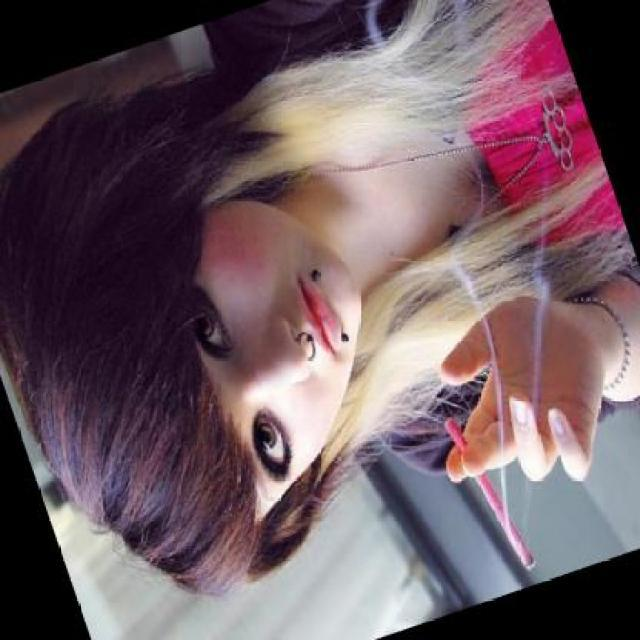cigarette: (437, 397, 546, 588)
